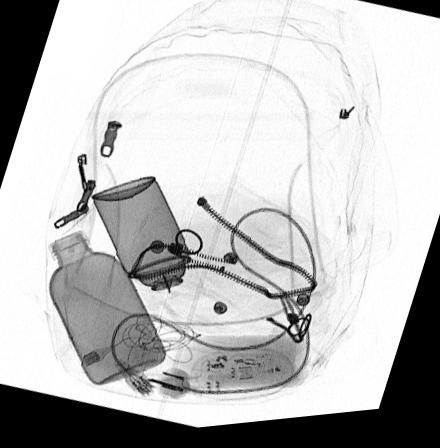Sprayer: (90, 180, 203, 314)
